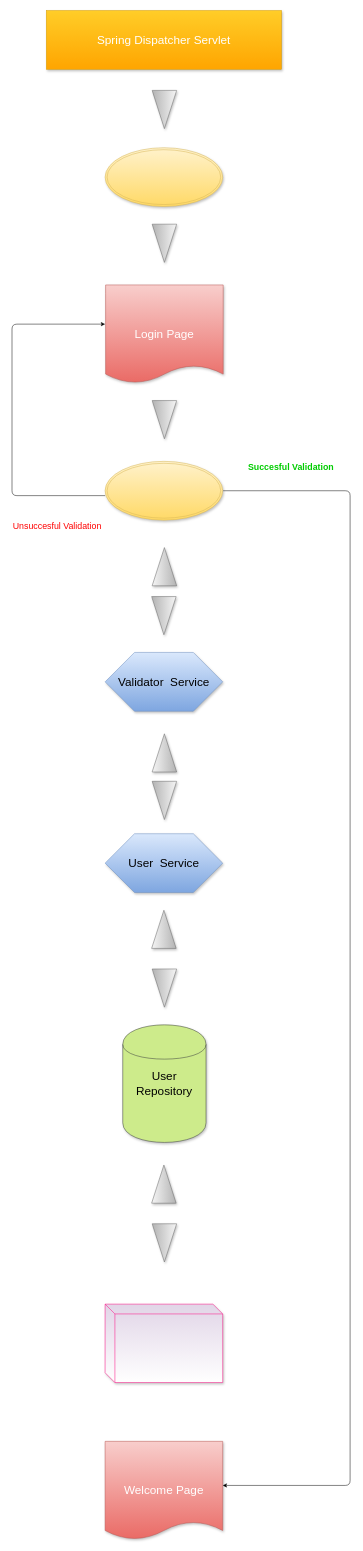
This 363x1551 diagram has some shape labels left out. The shapes that lost their labels are listed below. From the top down, each one's centre as x and y in pixels, then its label:
the point at 164,177: Home Controller
the point at 164,491: Login Controller
the point at 164,1344: File System
